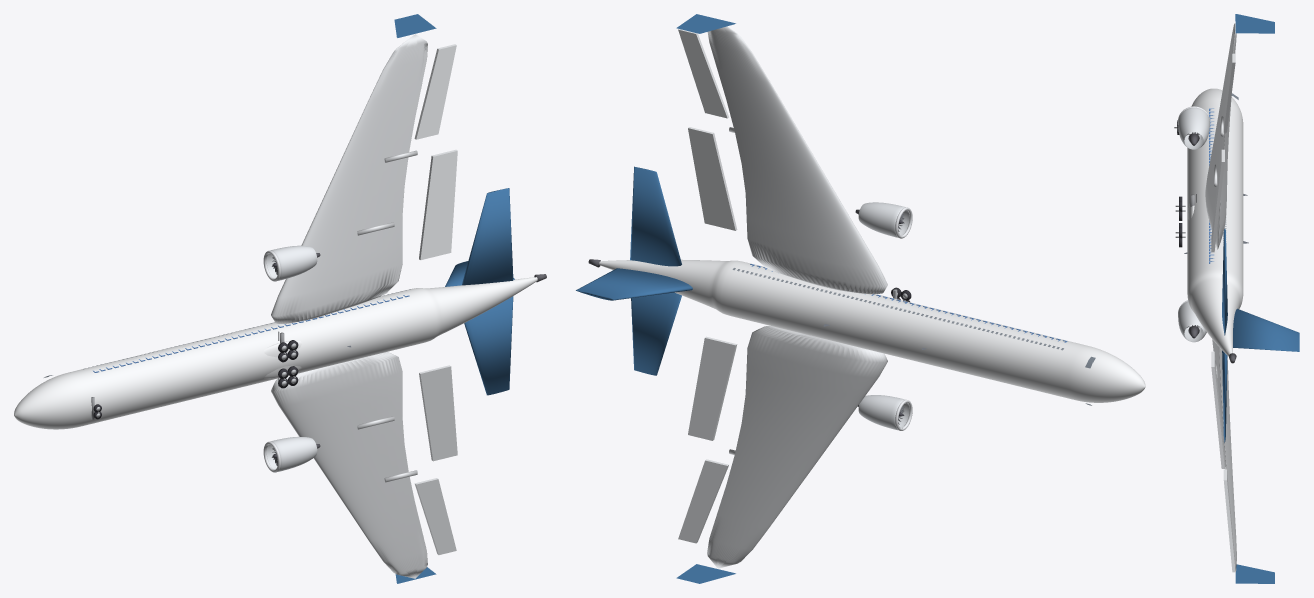
3 renders of one model, left to right at view 1: azimuth 30°, elevation 25°; view 2: azimuth 150°, elevation 25°; view 3: azimuth 270°, elevation 25°, orthographic.
Parts seen in each view (by area): view 1: Fuselage, Wing_R, Wing_L, HStab_R, HStab_L, Flap_R, Flap_L, Aileron_R, Aileron_L, Nacelle_1_0, Nacelle_-1_0; view 2: Fuselage, Wing_L, Wing_R, HStab_R, Flap_L, HStab_L, Flap_R, Fin, Aileron_L, Aileron_R, Nacelle_1_0, Nacelle_-1_0; view 3: Fuselage, Wing_R, Fin, Wing_L, Nacelle_1_0, Sharklet_R, Sharklet_L, Nacelle_-1_0, Flap_L, Flap_R, Aileron_L, HStab_R (+3 smaller).
Part boxes in pixels (left/top/right/bottom): Fuselage: left=14, top=277, right=537, bottom=429; Wing_R: left=271, top=34, right=427, bottom=323; Wing_L: left=271, top=352, right=427, bottom=578; HStab_R: left=462, top=188, right=513, bottom=285; HStab_L: left=464, top=296, right=513, bottom=395; Flap_R: left=419, top=149, right=457, bottom=260; Flap_L: left=419, top=365, right=457, bottom=461; Aileron_R: left=414, top=44, right=456, bottom=139; Aileron_L: left=414, top=478, right=456, bottom=554; Nacelle_1_0: left=266, top=245, right=317, bottom=280; Nacelle_-1_0: left=266, top=436, right=317, bottom=471; Fuselage: left=599, top=259, right=1145, bottom=402; Wing_L: left=707, top=326, right=887, bottom=568; Wing_R: left=707, top=26, right=887, bottom=294; HStab_R: left=630, top=166, right=681, bottom=266; Flap_L: left=688, top=336, right=737, bottom=440; HStab_L: left=631, top=292, right=681, bottom=375; Flap_R: left=688, top=127, right=737, bottom=230; Fin: left=576, top=268, right=692, bottom=300; Aileron_L: left=678, top=459, right=728, bottom=543; Aileron_R: left=678, top=29, right=728, bottom=118; Nacelle_1_0: left=858, top=202, right=909, bottom=237; Nacelle_-1_0: left=858, top=395, right=909, bottom=430; Fuselage: left=1187, top=88, right=1243, bottom=356; Wing_R: left=1205, top=23, right=1236, bottom=249; Fin: left=1233, top=308, right=1299, bottom=351; Wing_L: left=1212, top=339, right=1236, bottom=571; Nacelle_1_0: left=1178, top=107, right=1209, bottom=149; Sharklet_R: left=1235, top=14, right=1274, bottom=33; Sharklet_L: left=1235, top=564, right=1274, bottom=583; Nacelle_-1_0: left=1178, top=301, right=1206, bottom=342; Flap_L: left=1211, top=351, right=1224, bottom=468; Flap_R: left=1211, top=149, right=1224, bottom=252; Aileron_L: left=1223, top=469, right=1235, bottom=572; HStab_R: left=1222, top=229, right=1227, bottom=335.
Bounding box in the file's own units: 67.24 × 64.75 × 13.37.
